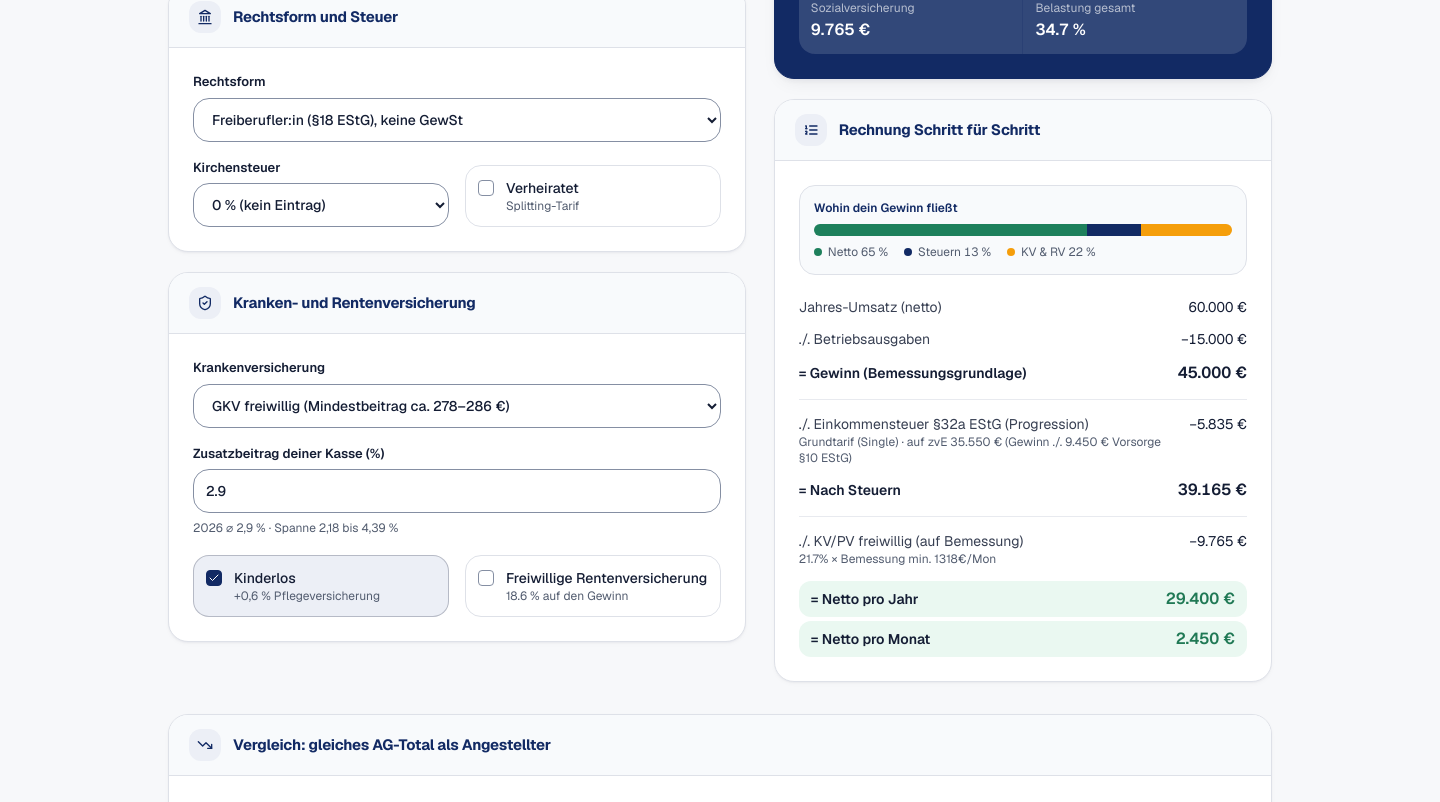
Test: BruttoNettoSolo — KV-Varianten › KSK halbiert KV-Beitrag
(page scrolled)
Step 1. Select "KSK (Bund zahlt 50%, nur Künstler/Publizisten)" in the dropdown labelled "Krankenversicherung" → {"x": 457, "y": 406}, box top-left (193, 384), bottom-right (721, 428)
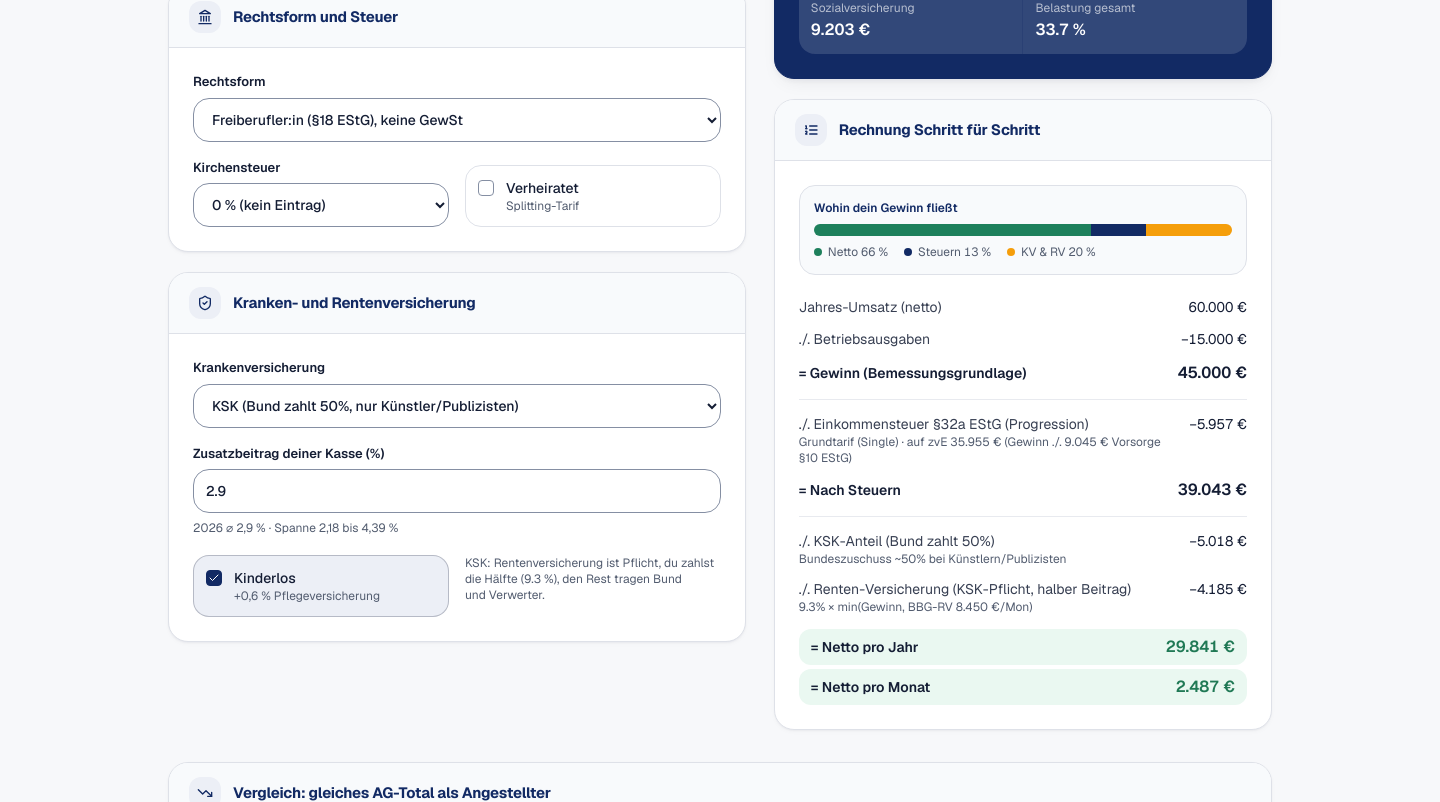
Expected: the text "Bund zahlt 50" is shown, top-left (799, 532), bottom-right (994, 550)
